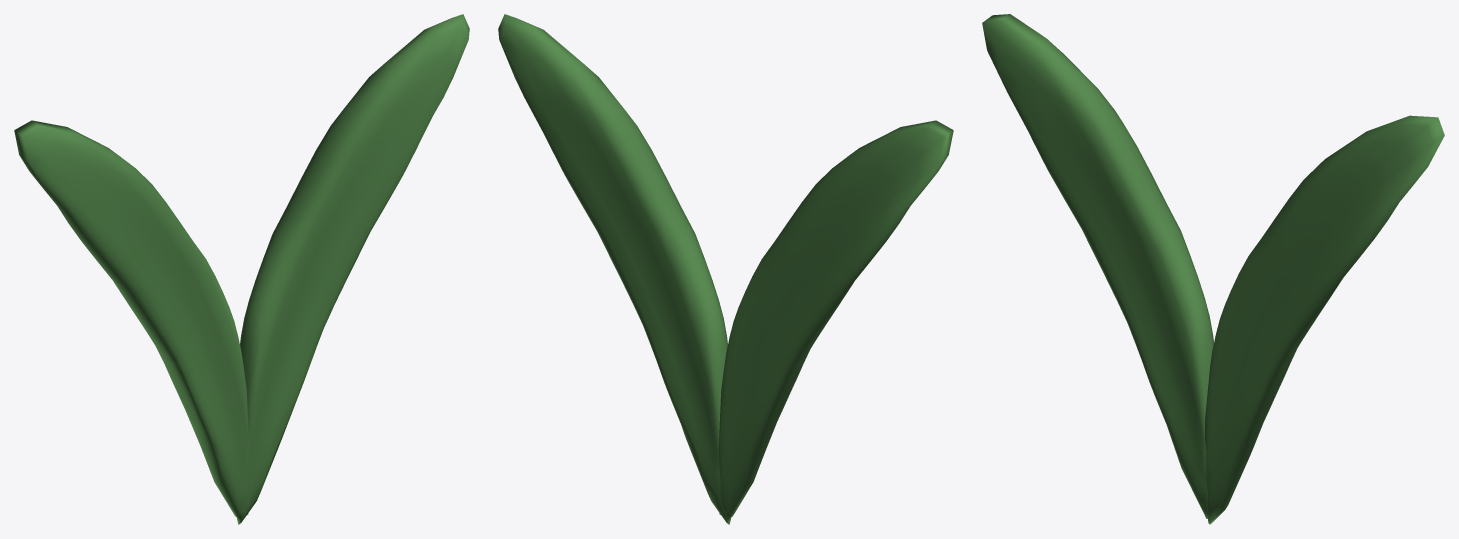
The model's file is Carrot_Small.fbx.
3 views of the same model, side by side, from view 1: azimuth 30°, elevation 25°; view 2: azimuth 150°, elevation 25°; view 3: azimuth 330°, elevation 25° (orthographic).
Visible parts, largest first — view 1: Carrot_Smol; view 2: Carrot_Smol; view 3: Carrot_Smol.
Boxes of the visible parts, bbox=[...] form: Carrot_Smol: bbox=[14, 14, 469, 524]; Carrot_Smol: bbox=[498, 14, 953, 524]; Carrot_Smol: bbox=[982, 14, 1444, 524].
Size of the model in its own units: 0.8458 by 0.8185 by 0.0814.
